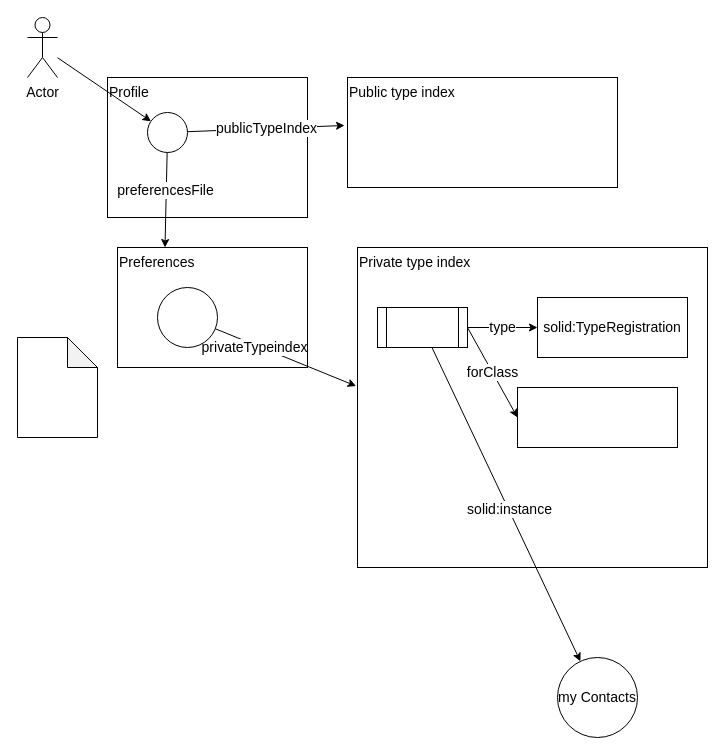
Some shapes in this 725 by 755 pixel diagram are drawn without their labels. Each missing label, with the centre of its shape:
#me: point 167,132
card#me: point 187,317
vcard"AddresBook: point 597,417
